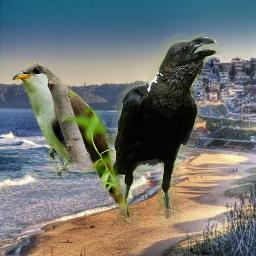Crow: (105, 32, 222, 224)
Cuckoo: (8, 62, 138, 218)
